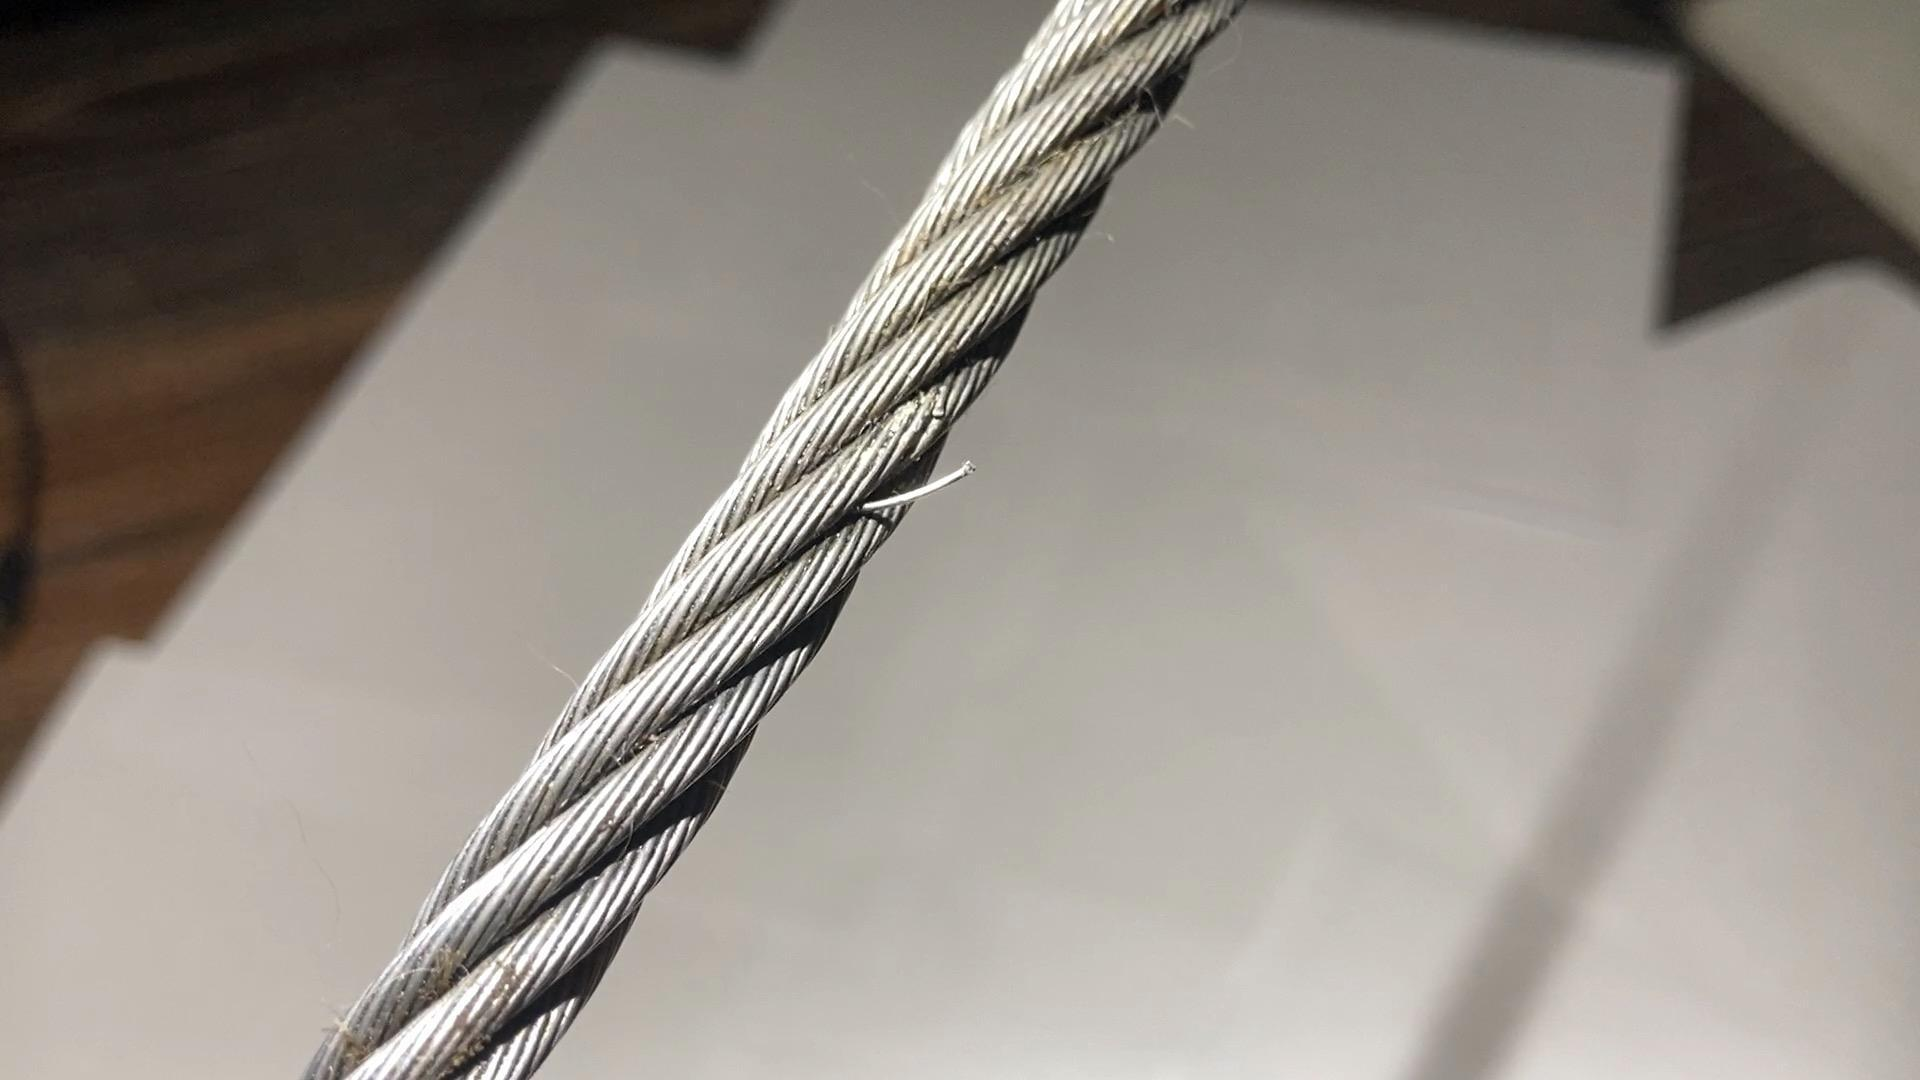break: (837, 413, 968, 533)
